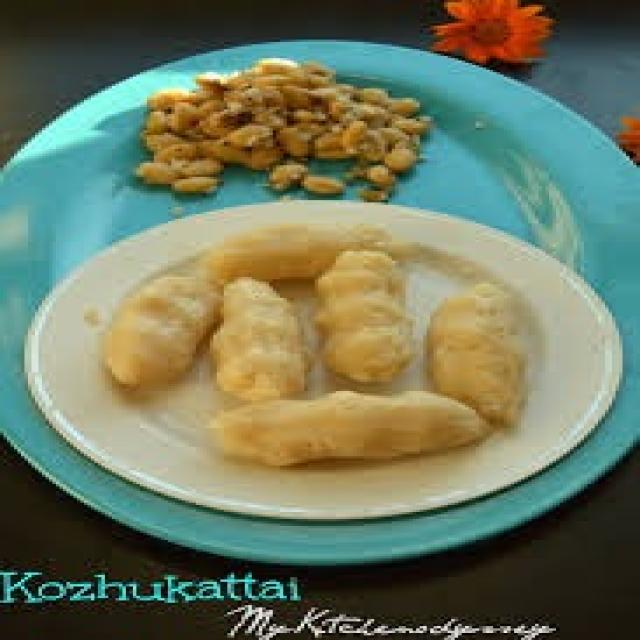pidi kolukattai: (84, 207, 532, 477)
